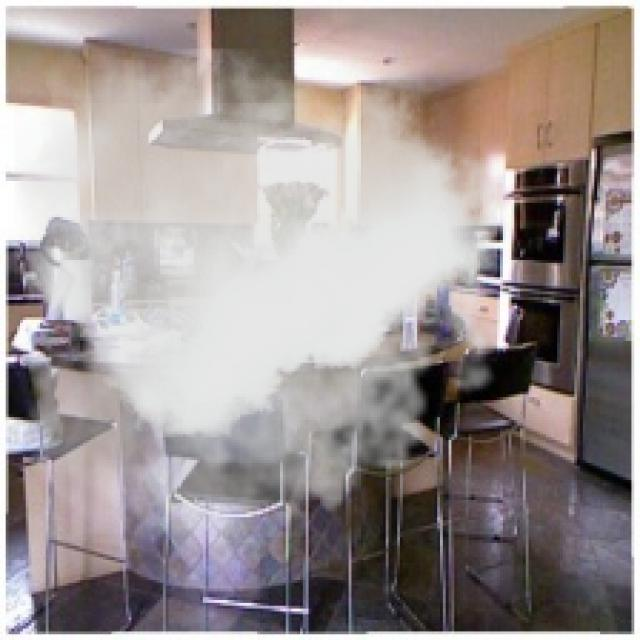smoke: (14, 49, 529, 574)
